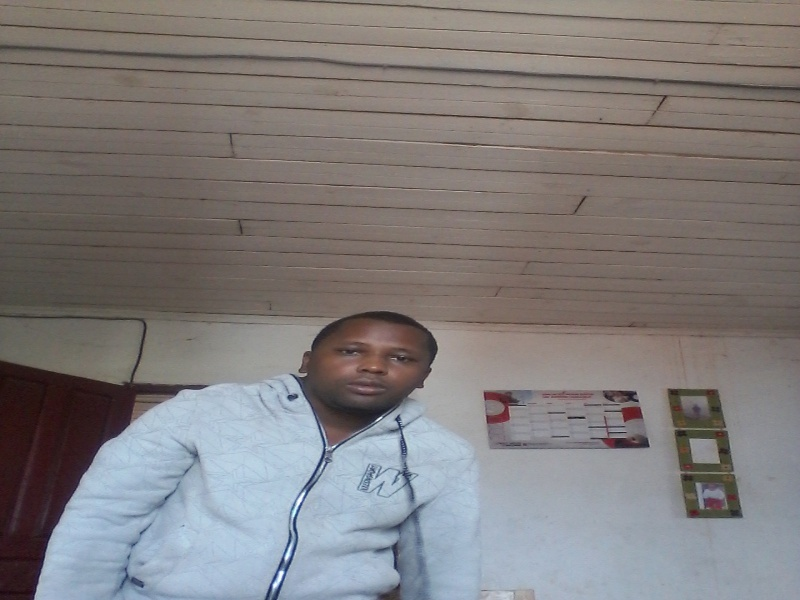TsisyArotava: (293, 296, 453, 426)
